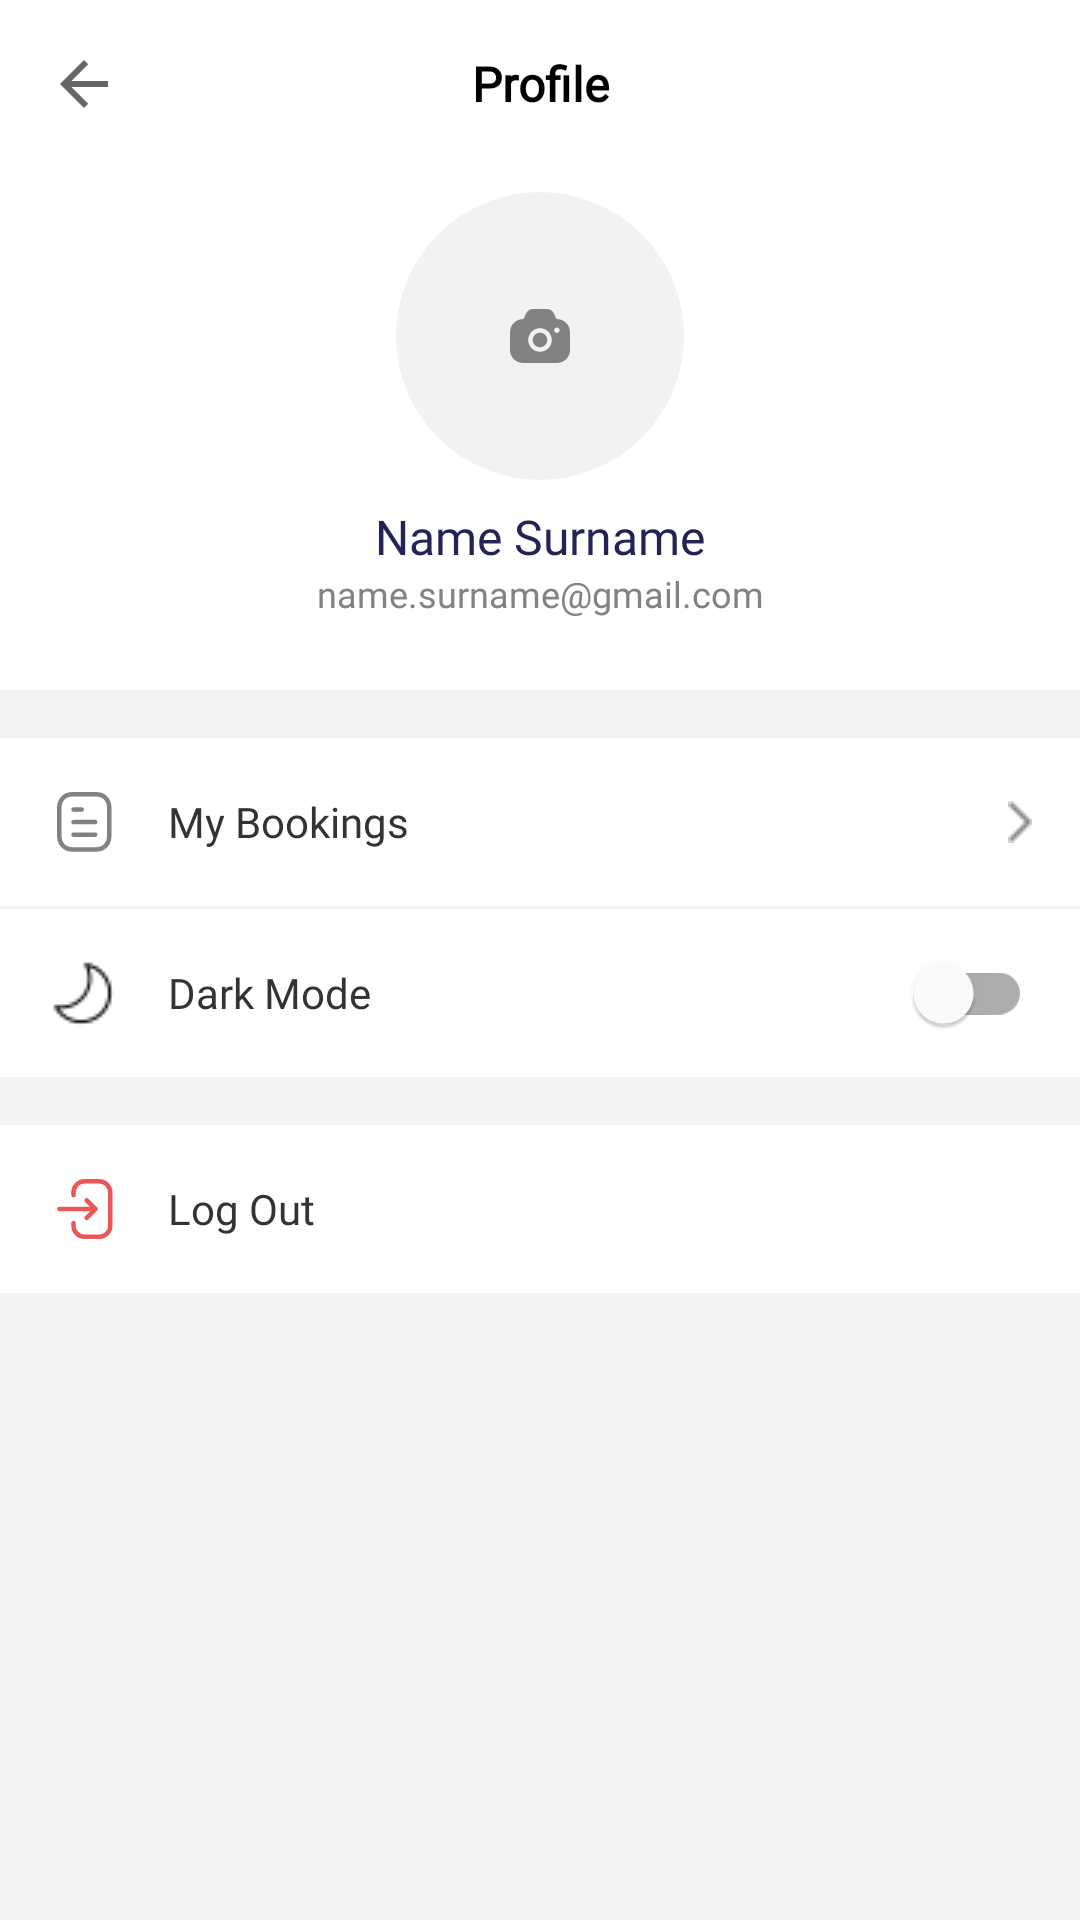

Named icons in this screenshot (1080 × 1920) and their centers, point (x, y):
camera: point (540, 336)
